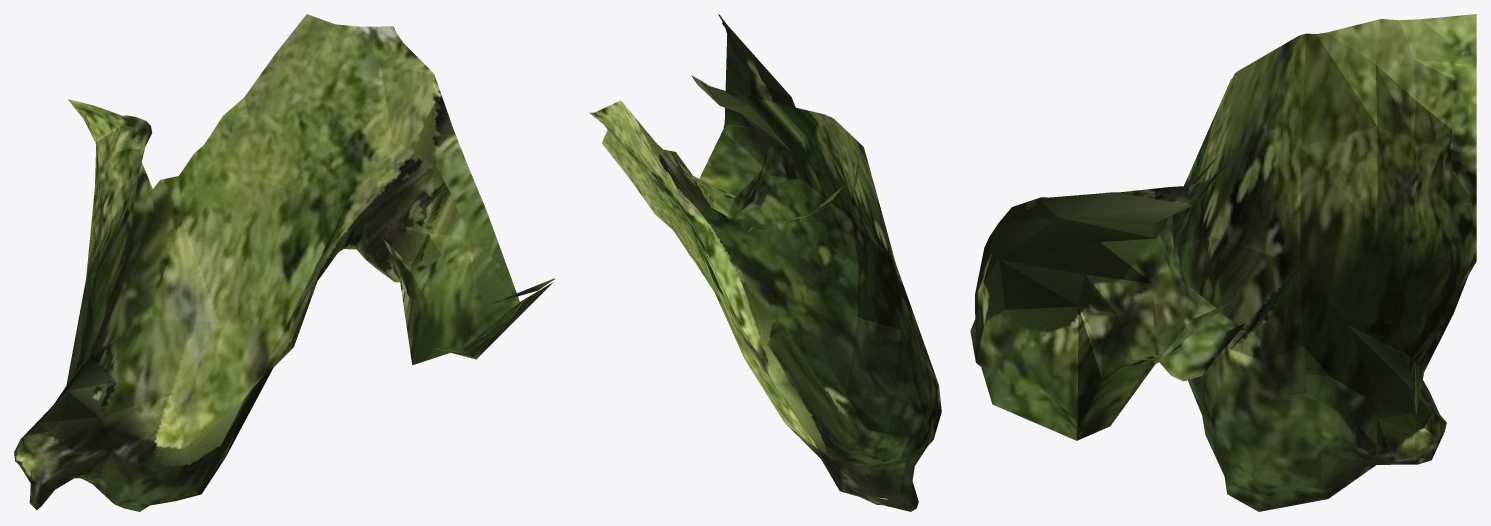
The picture shows the model from 3 angles, left to right: view 1: azimuth 30°, elevation 25°; view 2: azimuth 150°, elevation 25°; view 3: azimuth 270°, elevation 25°; orthographic projection. The views are drawn at different scales.
Size of the model in its own units: 2.21 by 2.17 by 2.1.
Materials: 3 (3 with a texture image).
